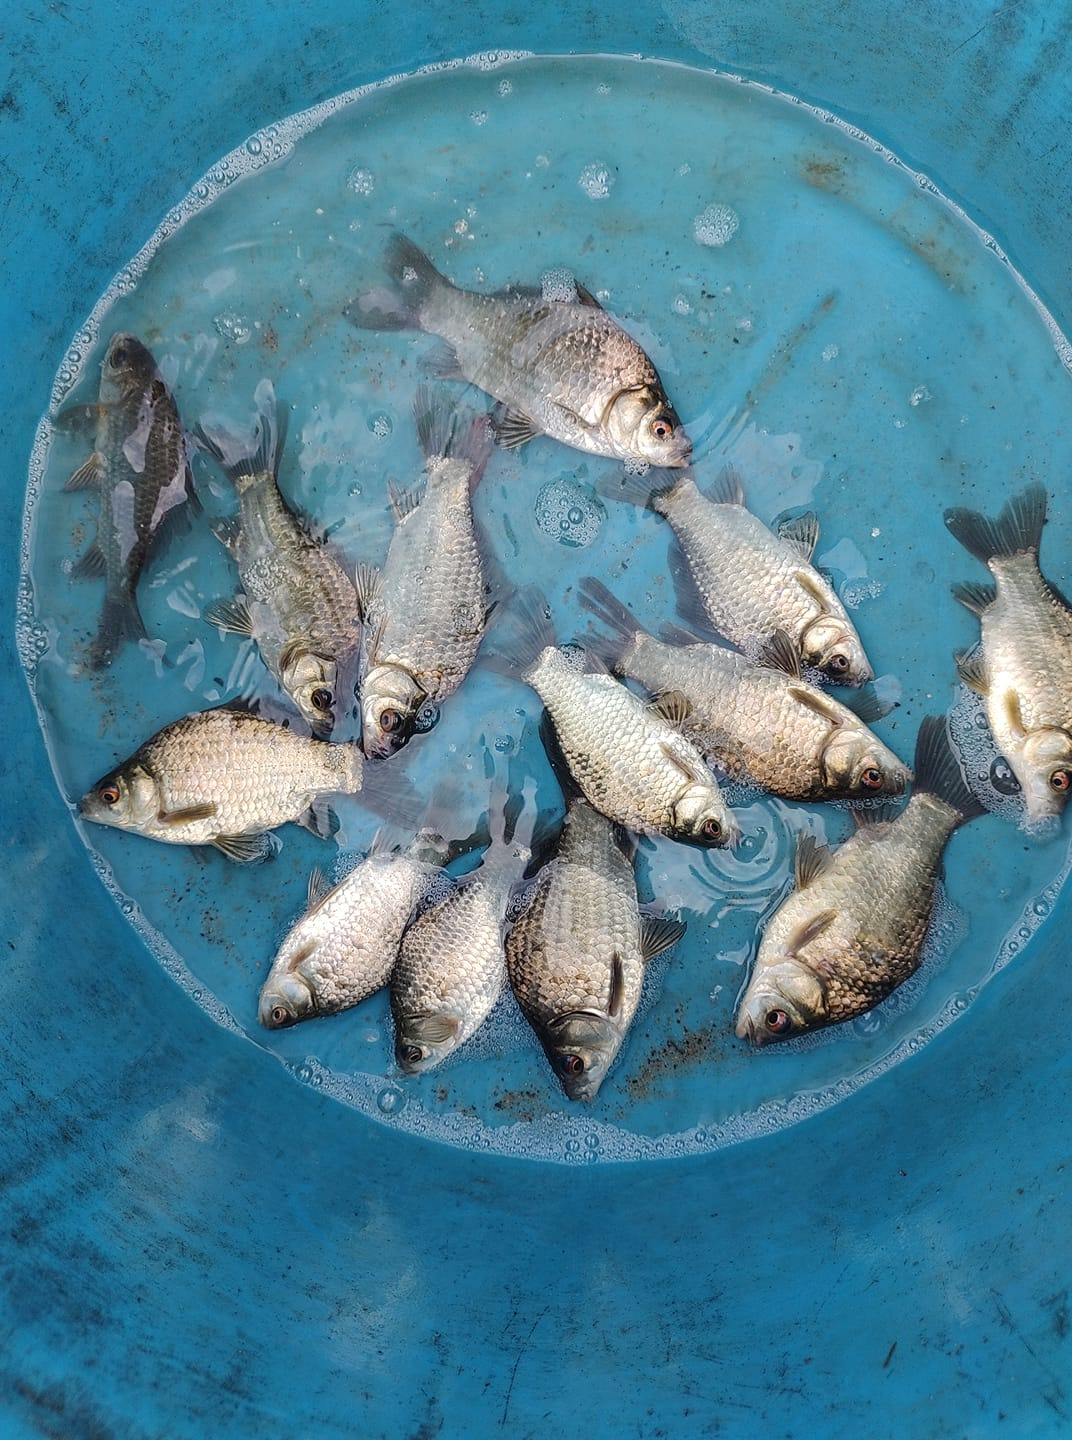fish: (407, 265, 687, 472), (730, 814, 941, 1050), (202, 453, 357, 716), (640, 488, 855, 670), (970, 529, 1072, 866), (70, 706, 368, 821), (498, 853, 640, 1086), (547, 695, 747, 850), (77, 338, 184, 627), (694, 665, 896, 799), (232, 867, 426, 993), (381, 889, 509, 1065), (368, 451, 436, 757)
